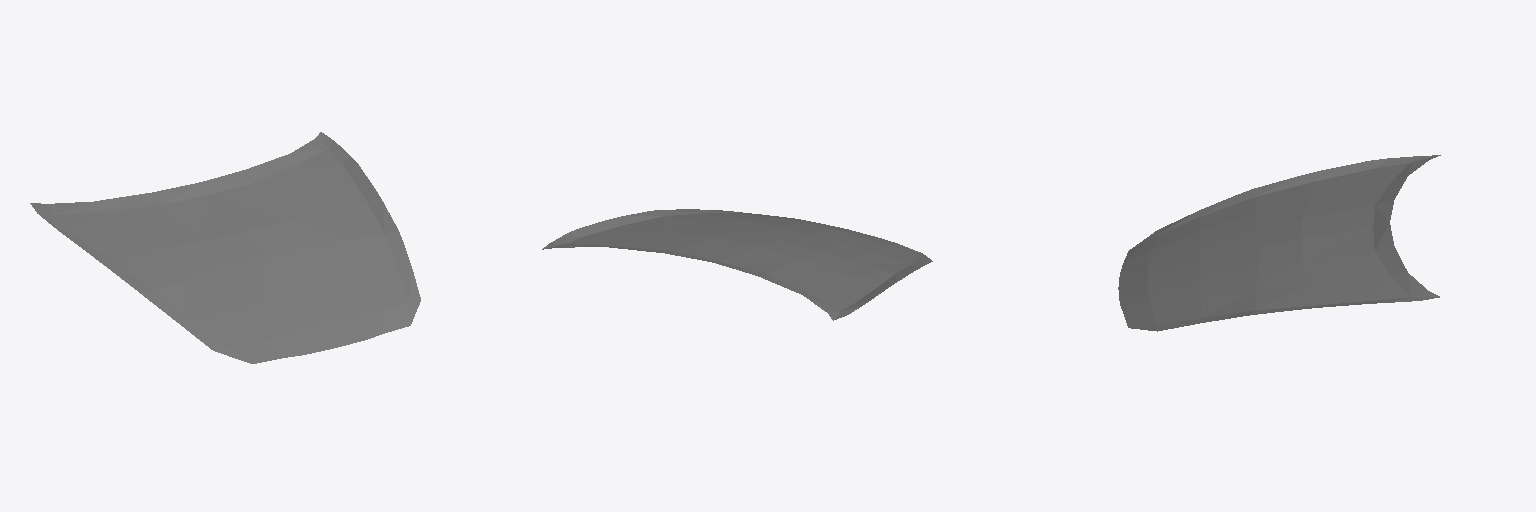
Rendered from Cofre_Carro.obj.
3 views of the same model, side by side, from view 1: azimuth 30°, elevation 25°; view 2: azimuth 150°, elevation 25°; view 3: azimuth 270°, elevation 25° (orthographic).
Parts seen in each view (by area): view 1: Cofre_Carro; view 2: Cofre_Carro; view 3: Cofre_Carro.
Boxes of the visible parts, x1=… form: Cofre_Carro: x1=30, y1=132, x2=420, y2=363; Cofre_Carro: x1=542, y1=209, x2=932, y2=320; Cofre_Carro: x1=1118, y1=155, x2=1440, y2=331.
Size of the model in its own units: 40.36 by 8.72 by 38.01.